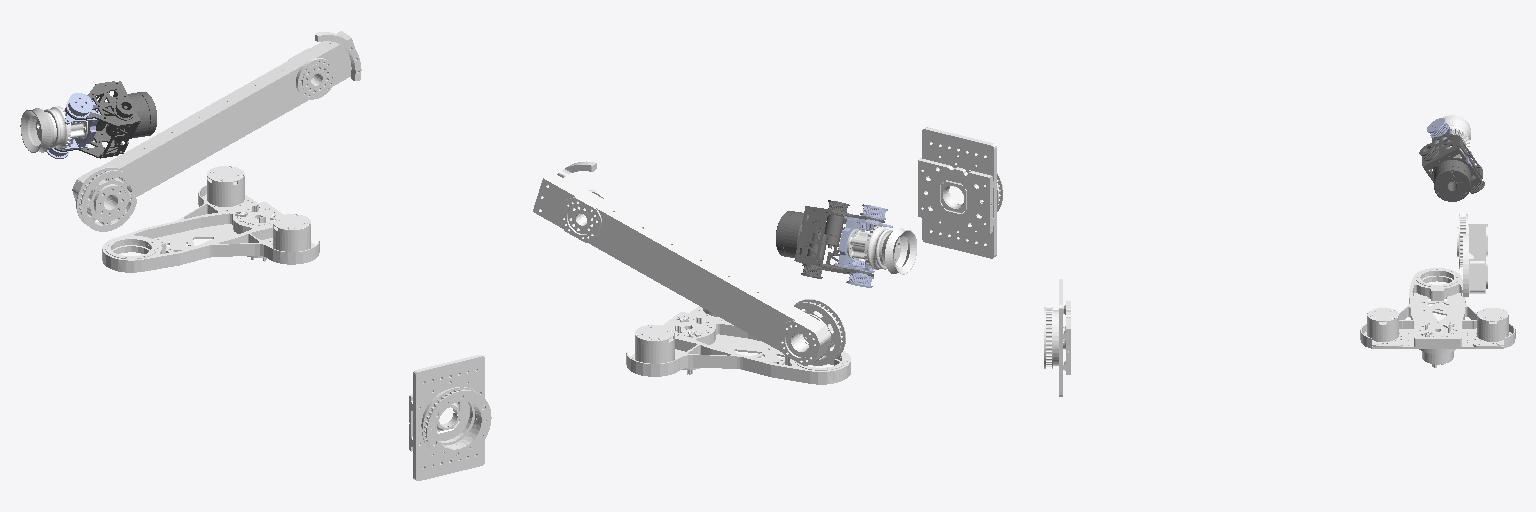
robot.urdf — robotic_arm_description:
<?xml version="1.0" encoding="utf-8"?>
<!-- This URDF was automatically created by SolidWorks to URDF Exporter! Originally created by [author] ([email redacted]) 
     Commit Version: 1.6.0-4-g7f85cfe  Build Version: 1.6.7995.38578
     For more information, please see http://wiki.ros.org/sw_urdf_exporter -->
<robot
  name="robotic_arm_description">
  <link
    name="base_link">
    <inertial>
      <origin
        xyz="0 0 0.03"
        rpy="0 0 0" />
      <mass
        value="0.54333" />
      <inertia
        ixx="0.0011488"
        ixy="-1.8705E-07"
        ixz="1.2299E-12"
        iyy="0.00069977"
        iyz="1.123E-13"
        izz="0.0018411" />
    </inertial>
    <visual>
      <origin
        xyz="0 0 0"
        rpy="0 0 0" />
      <geometry>
        <mesh
          filename="package://robotic_arm_description/meshes/visual/base_link.STL" />
      </geometry>
      <material
        name="">
        <color
          rgba="1 1 1 1" />
      </material>
    </visual>
    <collision>
      <origin
        xyz="0 0 0"
        rpy="0 0 0" />
      <geometry>
        <mesh
          filename="package://robotic_arm_description/meshes/visual/base_link.STL" />
      </geometry>
    </collision>
  </link>
  <link
    name="Link1">
    <inertial>
      <origin
        xyz="-0.042776 0.041899 0.019137"
        rpy="0 0 0" />
      <mass
        value="1.0968" />
      <inertia
        ixx="0.0037792"
        ixy="0.0020035"
        ixz="3.2611E-06"
        iyy="0.0038578"
        iyz="-3.2463E-06"
        izz="0.0074719" />
    </inertial>
    <visual>
      <origin
        xyz="0 0 0"
        rpy="0 0 0" />
      <geometry>
        <mesh
          filename="package://robotic_arm_description/meshes/visual/Link1.STL" />
      </geometry>
      <material
        name="">
        <color
          rgba="1 1 1 1" />
      </material>
    </visual>
    <collision>
      <origin
        xyz="0 0 0"
        rpy="0 0 0" />
      <geometry>
        <mesh
          filename="package://robotic_arm_description/meshes/visual/Link1.STL" />
      </geometry>
    </collision>
  </link>
  <joint
    name="joint1"
    type="fixed">
    <origin
      xyz="0.0 0.0 0.0"
      rpy="0 0 0.77982" />
    <parent
      link="base_link" />
    <child
      link="Link1" />
    <axis
      xyz="0 0 1" />
  </joint>
  <link
    name="Link2">
    <inertial>
      <origin
        xyz="-0.0293915910429697 0.0486285643763861 0.0612274613954139"
        rpy="0 0 0" />
      <mass
        value="1.25214738320438" />
      <inertia
        ixx="0.00418046489133235"
        ixy="0.000966257495575629"
        ixz="-5.06683955952671E-06"
        iyy="0.00187013984439792"
        iyz="1.63783891707448E-05"
        izz="0.00334362090909904" />
    </inertial>
    <visual>
      <origin
        xyz="0 0 0"
        rpy="0 0 0" />
      <geometry>
        <mesh
          filename="package://robotic_arm_description/meshes/visual/Link2.STL" />
      </geometry>
      <material
        name="">
        <color
          rgba="1 1 1 1" />
      </material>
    </visual>
    <collision>
      <origin
        xyz="0 0 0"
        rpy="0 0 0" />
      <geometry>
        <mesh
          filename="package://robotic_arm_description/meshes/visual/Link2.STL" />
      </geometry>
    </collision>
  </link>
  <joint
    name="joint2"
    type="revolute">
    <origin
      xyz="-0.15712 0.15399 0.032"
      rpy="0 0 -2.6997" />
    <parent
      link="Link1" />
    <child
      link="Link2" />
    <axis
      xyz="0 0 1" />
    <limit
      lower="-3.14159"
      upper="3.14159"
      effort="0"
      velocity="0" />
  </joint>
  <link
    name="Link3">
    <inertial>
      <origin
        xyz="0.0735996047362997 -0.180766902087912 0.0291903632102638"
        rpy="0 0 0" />
      <mass
        value="0.806622966094275" />
      <inertia
        ixx="0.00428616079799915"
        ixy="0.00162064430277941"
        ixz="1.5763835318075E-07"
        iyy="0.00108394932833737"
        iyz="1.37328549974522E-07"
        izz="0.00525748398490944" />
    </inertial>
    <visual>
      <origin
        xyz="0 0 0"
        rpy="0 0 0" />
      <geometry>
        <mesh
          filename="package://robotic_arm_description/meshes/visual/Link3.STL" />
      </geometry>
      <material
        name="">
        <color
          rgba="1 1 1 1" />
      </material>
    </visual>
    <collision>
      <origin
        xyz="0 0 0"
        rpy="0 0 0" />
      <geometry>
        <mesh
          filename="package://robotic_arm_description/meshes/visual/Link3.STL" />
      </geometry>
    </collision>
  </link>
  <joint
    name="joint3"
    type="revolute">
    <origin
      xyz="-0.027759 -0.026066 0.063"
      rpy="-1.5708 0.88139 1.9199" />
    <parent
      link="Link2" />
    <child
      link="Link3" />
    <axis
      xyz="0 0 1" />
    <limit
      lower="-3.14159"
      upper="3.14159"
      effort="0"
      velocity="0" />
  </joint>
  <link
    name="Link4">
    <inertial>
      <origin
        xyz="0.0334065400236465 0.056438303721173 -0.0209545212188433"
        rpy="0 0 0" />
      <mass
        value="1.08685226595306" />
      <inertia
        ixx="0.00178938161682911"
        ixy="-0.000450625341988752"
        ixz="4.31239421334185E-07"
        iyy="0.00126892274611038"
        iyz="-1.20971607458933E-06"
        izz="0.00280043918230883" />
    </inertial>
    <visual>
      <origin
        xyz="0 0 0"
        rpy="0 0 0" />
      <geometry>
        <mesh
          filename="package://robotic_arm_description/meshes/visual/Link4.STL" />
      </geometry>
      <material
        name="">
        <color
          rgba="1 1 1 1" />
      </material>
    </visual>
    <collision>
      <origin
        xyz="0 0 0"
        rpy="0 0 0" />
      <geometry>
        <mesh
          filename="package://robotic_arm_description/meshes/visual/Link4.STL" />
      </geometry>
    </collision>
  </link>
  <joint
    name="joint4"
    type="revolute">
    <origin
      xyz="0.14542 -0.35107 0.0145"
      rpy="0 0 1.2681" />
    <parent
      link="Link3" />
    <child
      link="Link4" />
    <axis
      xyz="0 0 1" />
    <limit
      lower="-3.14159"
      upper="3.14159"
      effort="0"
      velocity="0" />
  </joint>
  <link
    name="Link5">
    <inertial>
      <origin
        xyz="5.06310552090827E-05 -2.5981042822365E-05 -0.0685403600123032"
        rpy="0 0 0" />
      <mass
        value="0.691799197761243" />
      <inertia
        ixx="0.000216370509151489"
        ixy="1.06668320132473E-05"
        ixz="3.72994541964734E-07"
        iyy="0.00020139280915018"
        iyz="-3.05327492712099E-07"
        izz="0.000275299437122556" />
    </inertial>
    <visual>
      <origin
        xyz="0 0 0"
        rpy="0 0 0" />
      <geometry>
        <mesh
          filename="package://robotic_arm_description/meshes/visual/Link5.STL" />
      </geometry>
      <material
        name="">
        <color
          rgba="0.525490196078431 0.525490196078431 0.525490196078431 1" />
      </material>
    </visual>
    <collision>
      <origin
        xyz="0 0 0"
        rpy="0 0 0" />
      <geometry>
        <mesh
          filename="package://robotic_arm_description/meshes/visual/Link5.STL" />
      </geometry>
    </collision>
  </link>
  <joint
    name="joint5"
    type="revolute">
    <origin
      xyz="0.20278 0.37356 -0.0227"
      rpy="1.5708 -0.5236 2.6443" />
    <parent
      link="Link4" />
    <child
      link="Link5" />
    <axis
      xyz="0 0 -1" />
    <limit
      lower="-3.14159"
      upper="3.14159"
      effort="0"
      velocity="0" />
  </joint>
  <link
    name="Link6">
    <inertial>
      <origin
        xyz="-0.0445495814666962 0.00855523493492594 -0.00114742473678081"
        rpy="0 0 0" />
      <mass
        value="0.0795410960783994" />
      <inertia
        ixx="1.76237330108251E-05"
        ixy="1.34537730348688E-11"
        ixz="1.14220181233844E-10"
        iyy="2.12371160256906E-05"
        iyz="-3.7993364540014E-07"
        izz="1.88526908809782E-05" />
    </inertial>
    <visual>
      <origin
        xyz="0 0 0"
        rpy="0 0 0" />
      <geometry>
        <mesh
          filename="package://robotic_arm_description/meshes/visual/Link6.STL" />
      </geometry>
      <material
        name="">
        <color
          rgba="0.796078431372549 0.823529411764706 0.937254901960784 1" />
      </material>
    </visual>
    <collision>
      <origin
        xyz="0 0 0"
        rpy="0 0 0" />
      <geometry>
        <mesh
          filename="package://robotic_arm_description/meshes/visual/Link6.STL" />
      </geometry>
    </collision>
  </link>
  <joint
    name="joint6"
    type="revolute">
    <origin
      xyz="-0.021451 0.038875 0.016952"
      rpy="-1.4264 0 2.075" />
    <parent
      link="Link5" />
    <child
      link="Link6" />
    <axis
      xyz="1 0 0" />
    <limit
      lower="-3.14159"
      upper="3.14159"
      effort="0"
      velocity="0" />
  </joint>
  <link
    name="Link7">
    <inertial>
      <origin
        xyz="-7.7264E-09 3.8005E-10 -0.048391"
        rpy="0 0 0" />
      <mass
        value="0.1253" />
      <inertia
        ixx="3.5728E-05"
        ixy="-1.2932E-13"
        ixz="5.2766E-12"
        iyy="3.5728E-05"
        iyz="-1.6627E-13"
        izz="5.2631E-05" />
    </inertial>
    <visual>
      <origin
        xyz="0 0 0"
        rpy="0 0 0" />
      <geometry>
        <mesh
          filename="package://robotic_arm_description/meshes/visual/Link7.STL" />
      </geometry>
      <material
        name="">
        <color
          rgba="1 1 1 1" />
      </material>
    </visual>
    <collision>
      <origin
        xyz="0 0 0"
        rpy="0 0 0" />
      <geometry>
        <mesh
          filename="package://robotic_arm_description/meshes/visual/Link7.STL" />
      </geometry>
    </collision>
  </link>
  <joint
    name="joint7"
    type="revolute">
    <origin
      xyz="-0.0445 0.028078 -0.0037885"
      rpy="-1.8373 1.0382 -0.23098" />
    <parent
      link="Link6" />
    <child
      link="Link7" />
    <axis
      xyz="0 0 1" />
    <limit
      lower="-3.14159"
      upper="3.14159"
      effort="0"
      velocity="0" />
  </joint>
</robot>

--- What the picture shows (computed from the rendered views, not written in the file) ---
The picture shows the robot from 3 angles, left to right: view 1: azimuth 30°, elevation 25°; view 2: azimuth 150°, elevation 25°; view 3: azimuth 270°, elevation 25°; orthographic projection.
Robot: robotic_arm_description — 8 links, 7 joints (6 revolute, 1 fixed); root link base_link; default pose: every joint at zero.
Visible links, largest first — view 1: Link3, Link1, base_link, Link5, Link7, Link6; view 2: Link3, base_link, Link1, Link5, Link7, Link6; view 3: Link1, Link5, Link3, base_link.
Boxes of the visible links, <box> form: Link3: <box>72,31,361,231</box>; Link1: <box>102,166,319,272</box>; base_link: <box>409,355,491,480</box>; Link5: <box>54,81,156,158</box>; Link7: <box>20,106,87,152</box>; Link6: <box>46,93,100,158</box>; Link3: <box>533,161,845,365</box>; base_link: <box>918,127,1002,258</box>; Link1: <box>626,306,850,384</box>; Link5: <box>776,200,884,278</box>; Link7: <box>847,226,916,274</box>; Link6: <box>834,204,892,287</box>; Link1: <box>1360,268,1515,367</box>; Link5: <box>1419,127,1484,201</box>; Link3: <box>1457,214,1487,296</box>; base_link: <box>1044,279,1070,396</box>.
Bounding box of the posed robot: 0.5892 × 0.8428 × 0.4052 m (x, y, z).
Meshes: 8 distinct files referenced, 6 mesh visuals loaded (6 binary STL); not drawn: 2 (reference not matched to a file when rendering).